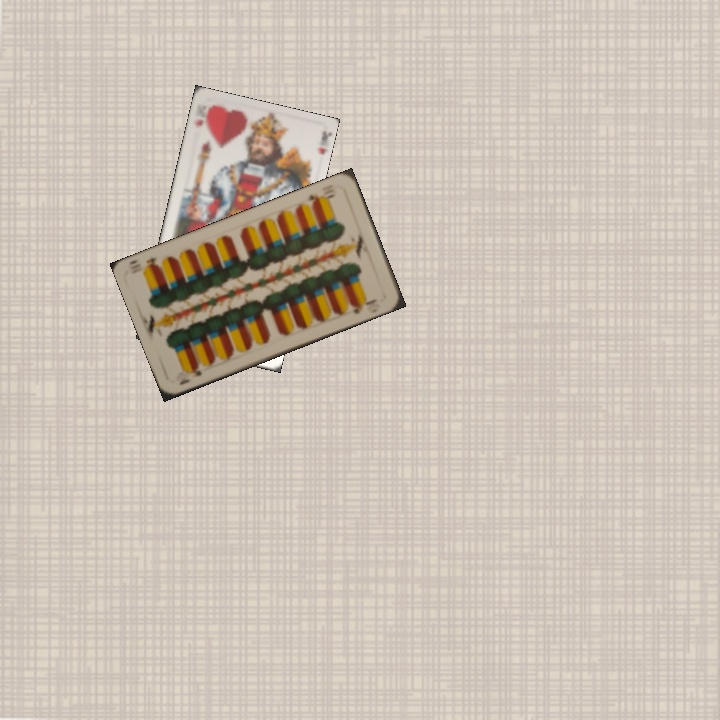E10: (175, 362, 204, 387), (303, 190, 338, 208)
HK: (190, 101, 213, 132)
